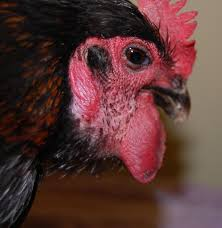fowl cholera: (4, 3, 203, 225)
